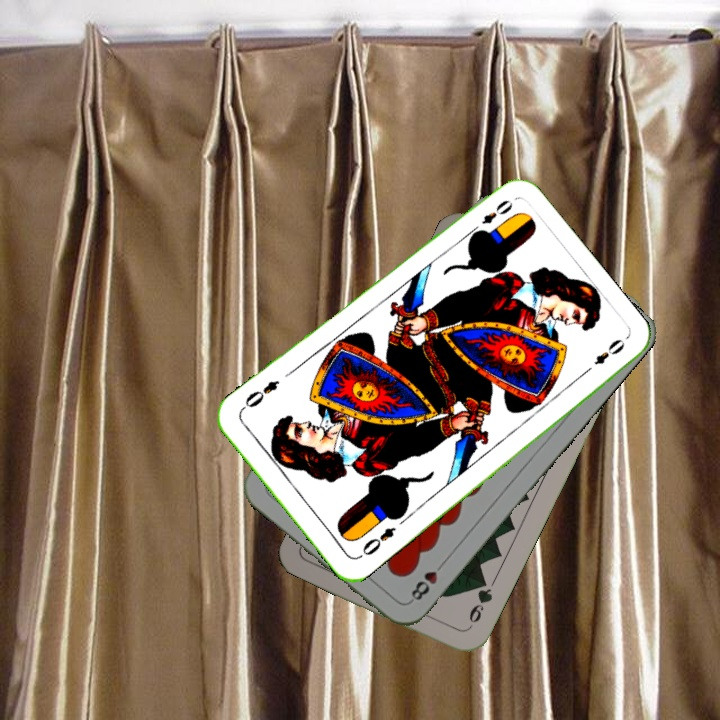EO: (465, 195, 516, 238), (358, 523, 399, 559)
G9: (463, 574, 496, 633)
H8: (405, 556, 448, 605)
